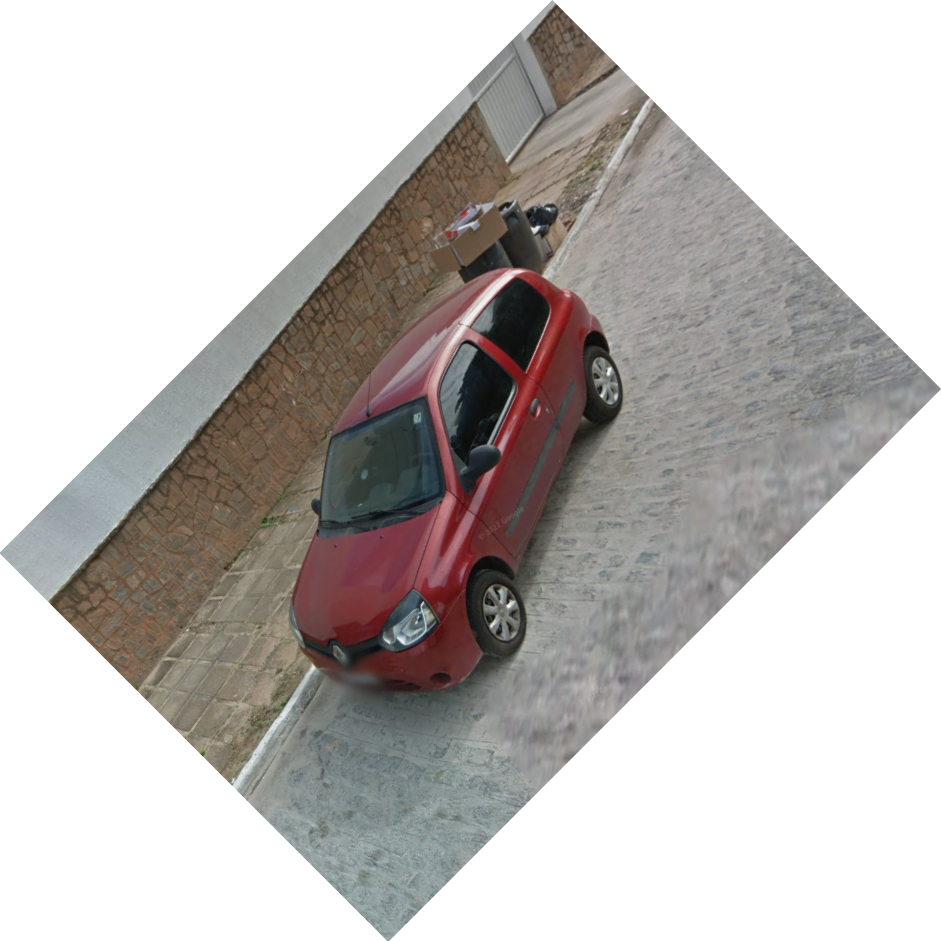car: (285, 266, 628, 702)
